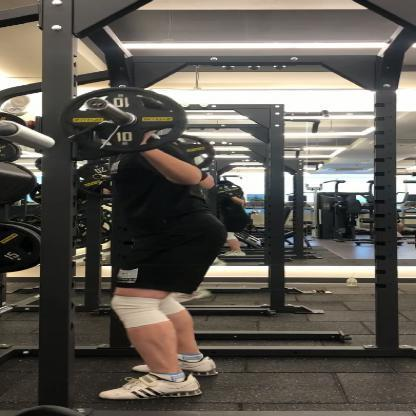barbell: (62, 88, 187, 156)
